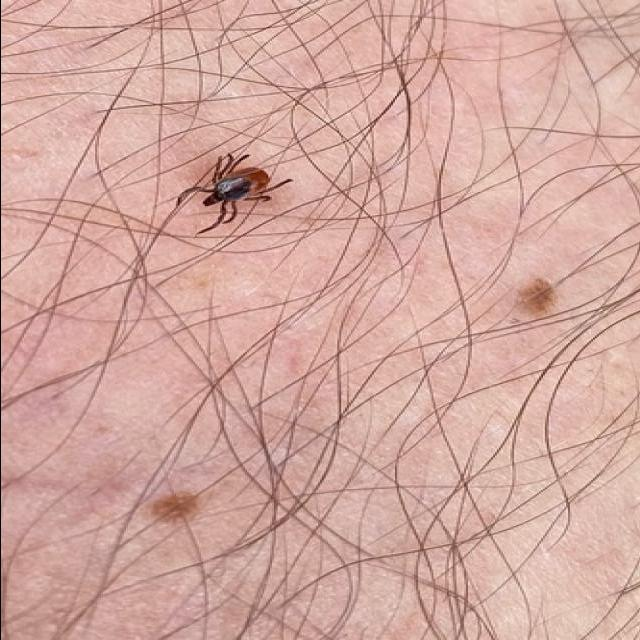Ixodes Ricinus-F: (169, 147, 292, 236)
